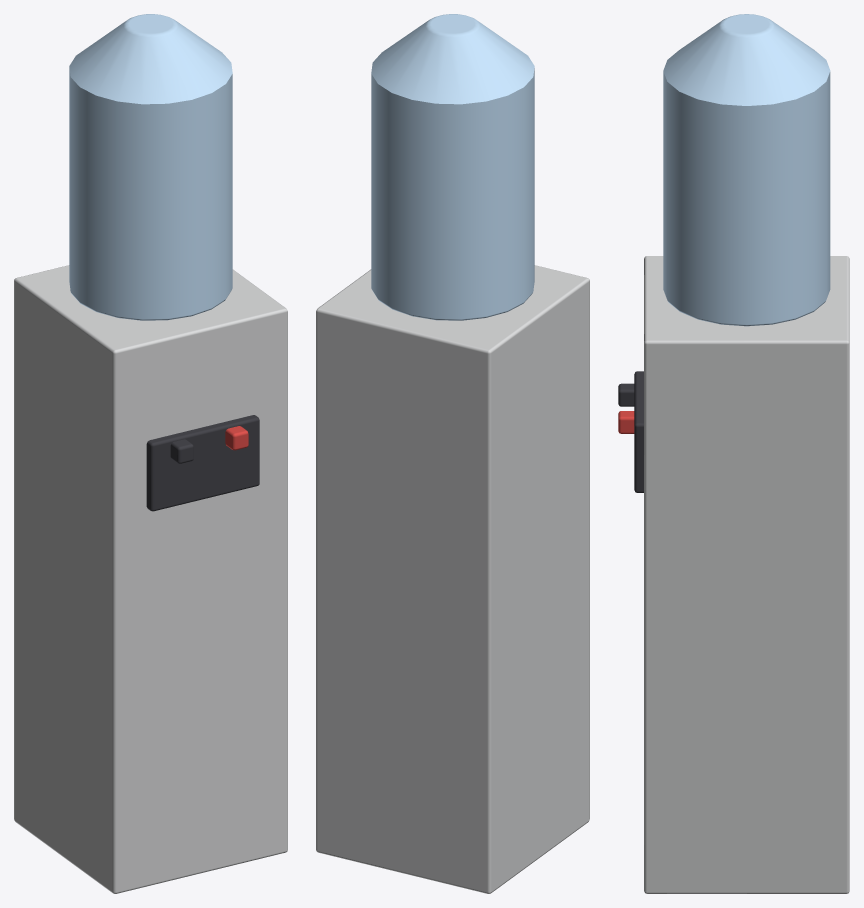
The model's file is SM_WaterCooler.fbx.
3 renders of one model, left to right at view 1: azimuth 30°, elevation 25°; view 2: azimuth 150°, elevation 25°; view 3: azimuth 270°, elevation 25°, orthographic.
Parts seen in each view (by area): view 1: SM_WaterCooler; view 2: SM_WaterCooler; view 3: SM_WaterCooler.
Boxes of the visible parts, x1=… form: SM_WaterCooler: x1=14, y1=14, x2=287, y2=893; SM_WaterCooler: x1=316, y1=14, x2=589, y2=893; SM_WaterCooler: x1=618, y1=14, x2=849, y2=893.
Bounding box in the file's own units: 0.32 × 1.42 × 0.36.
